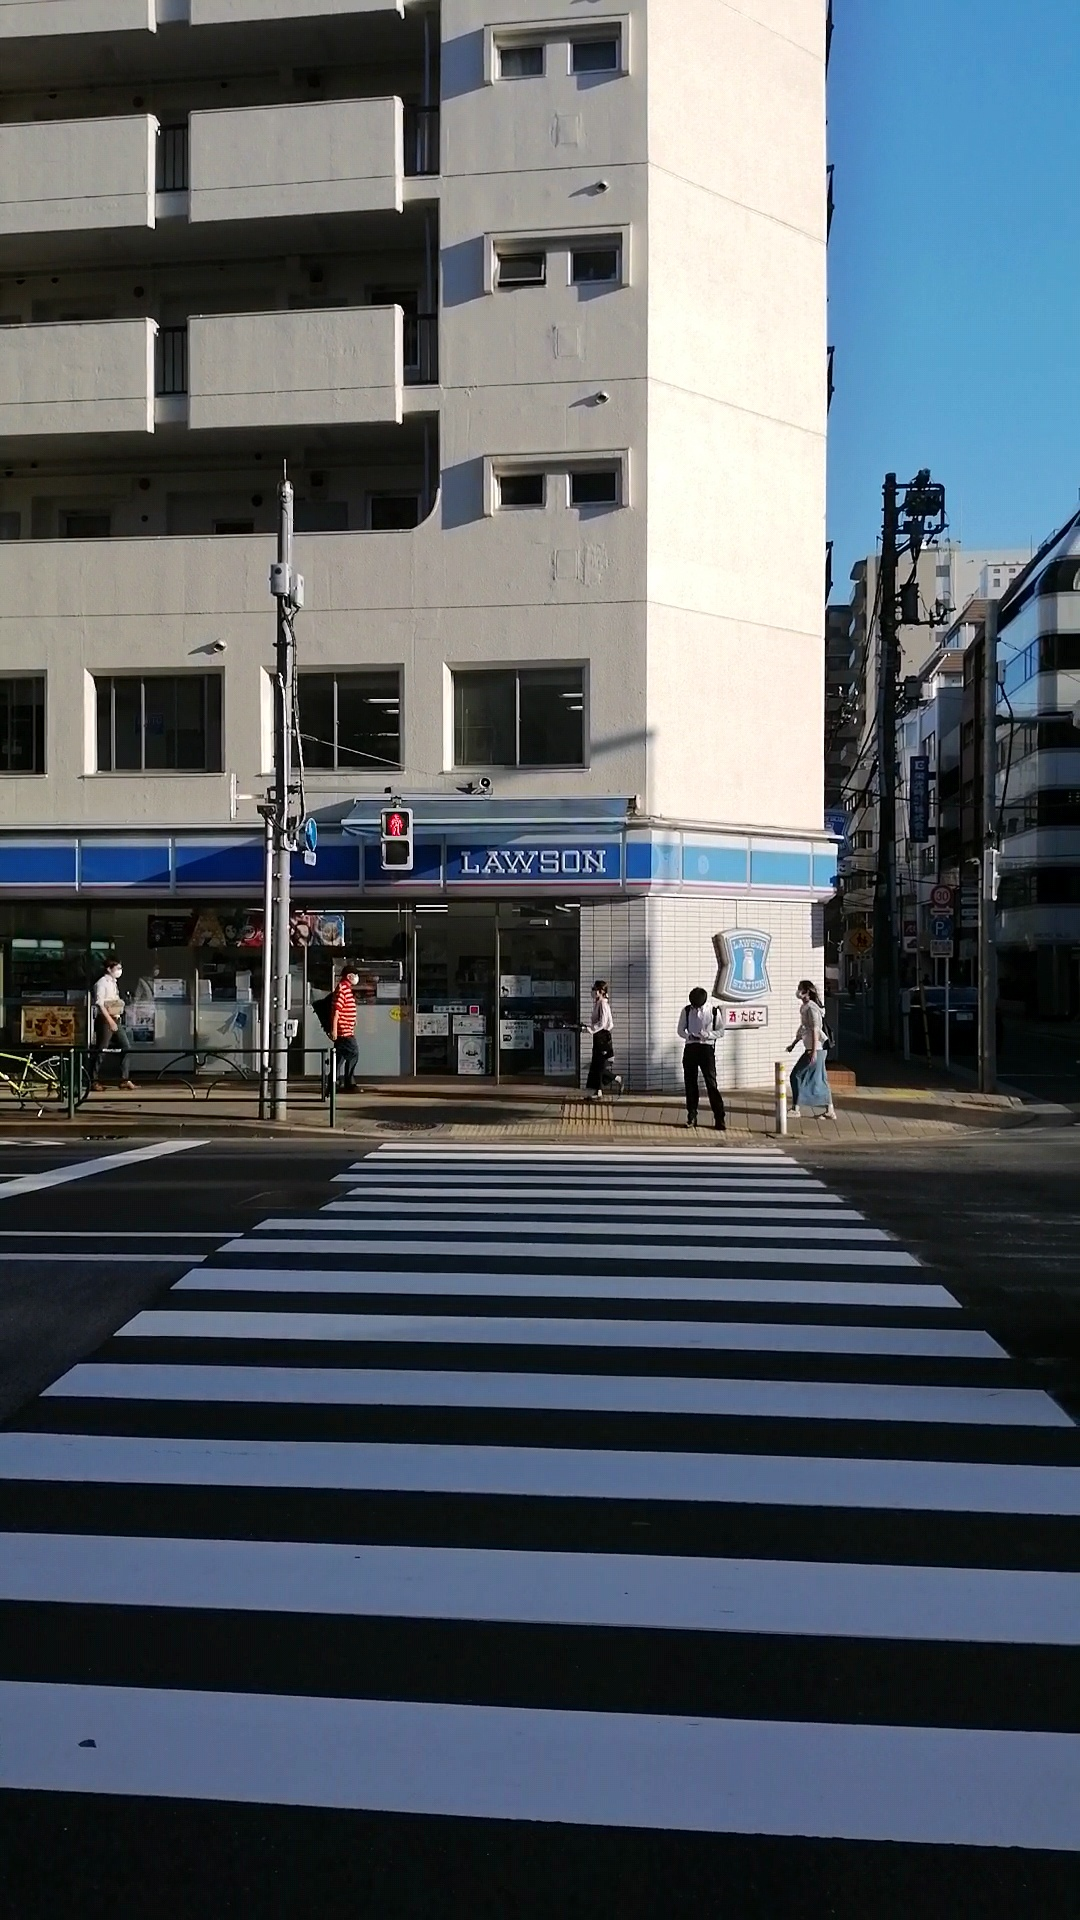red: (378, 807, 414, 872)
